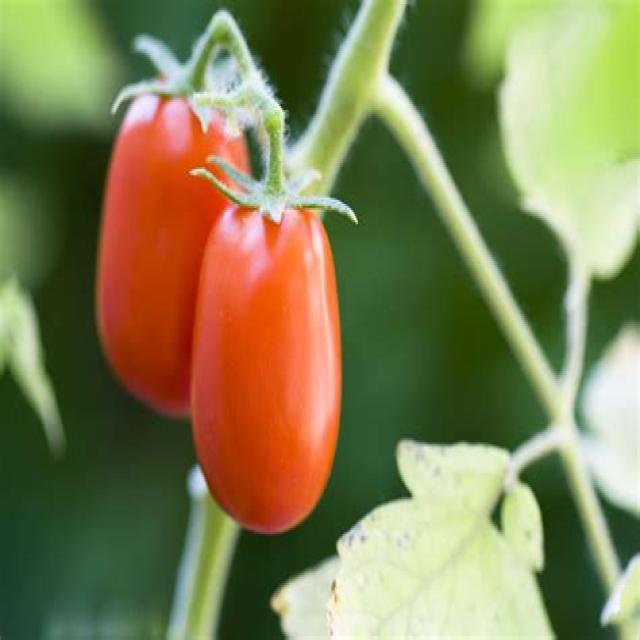Tomato: (94, 60, 256, 424), (188, 161, 342, 536)
